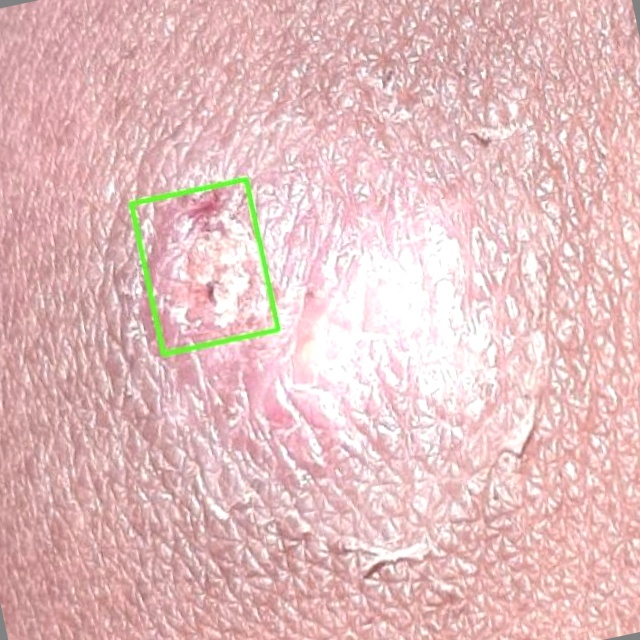Contact Dermatitis: (131, 179, 278, 354)
